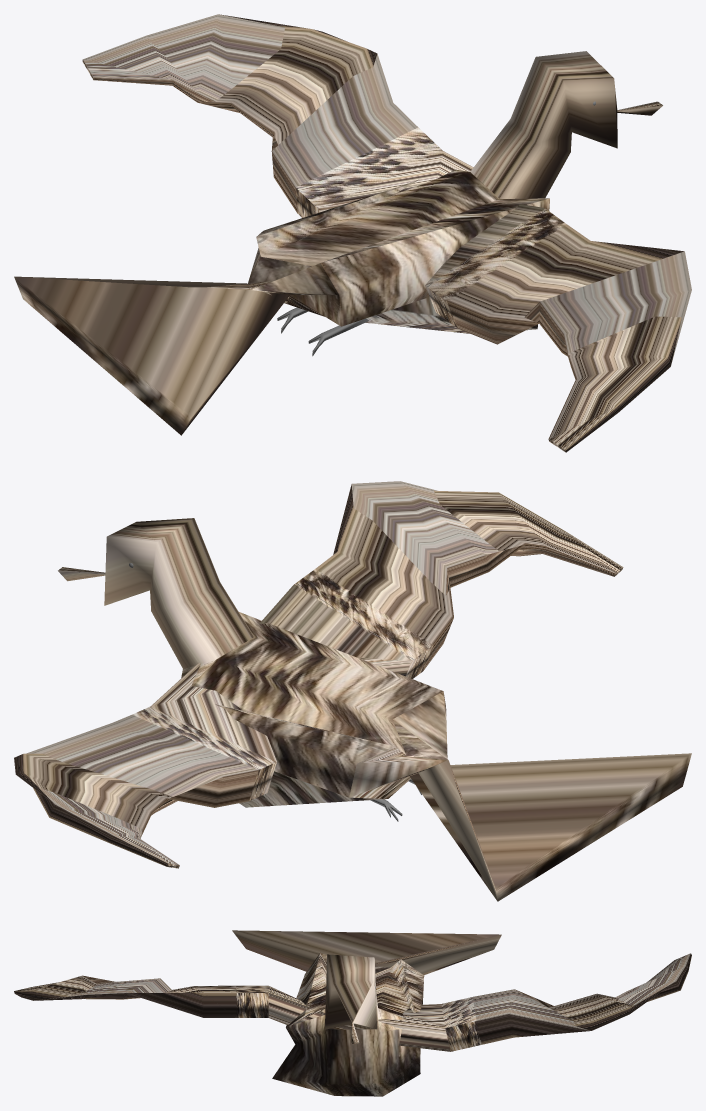
File: brown_bird.obj
3 views of the same model, one above another, from view 1: azimuth 30°, elevation 25°; view 2: azimuth 150°, elevation 25°; view 3: azimuth 270°, elevation 25° (orthographic). The views are drawn at different scales.
Visible parts, largest first — view 1: pCube1, pCube3, pCube2; view 2: pCube1, pCube2, pCube3; view 3: pCube1, pCube3, pCube2.
Boxes of the visible parts, x1,y1,x2,y2 form: pCube1: [14, 51, 662, 435]; pCube3: [82, 14, 473, 217]; pCube2: [425, 204, 691, 452]; pCube1: [58, 518, 691, 901]; pCube2: [259, 481, 623, 678]; pCube3: [14, 663, 276, 868]; pCube1: [232, 930, 501, 1096]; pCube3: [378, 953, 691, 1051]; pCube2: [14, 975, 325, 1025].
Size of the model in its own units: 6.84 by 2.86 by 10.09.
